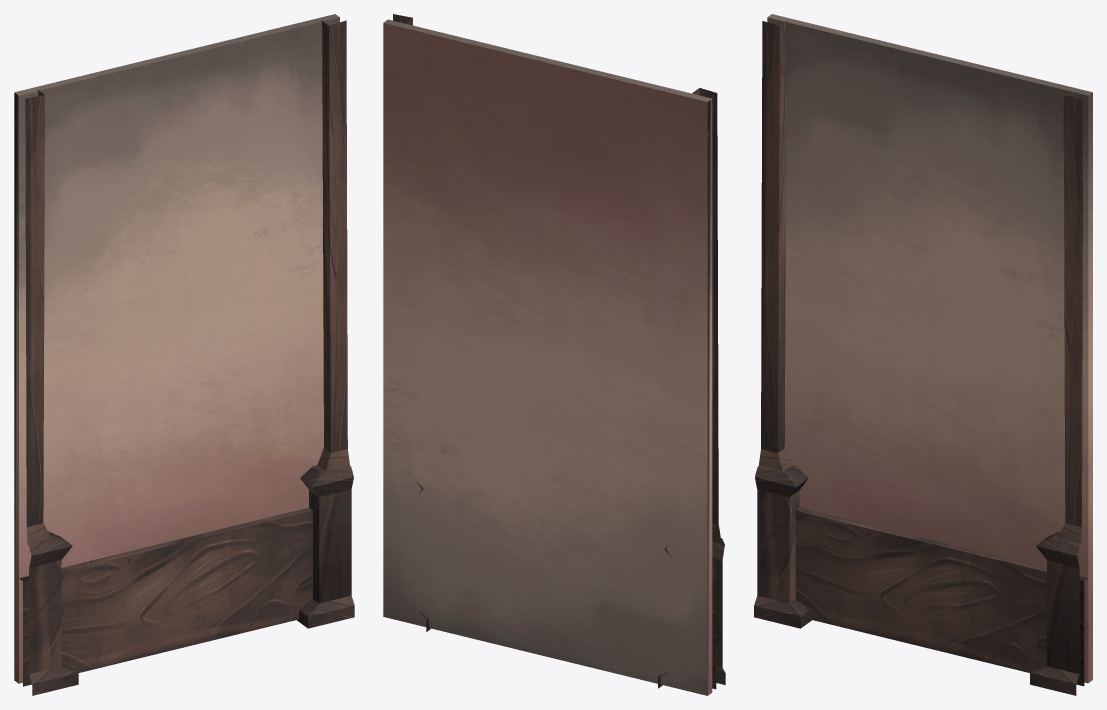
The model's file is Wall_Bot_Straight_LOD1.fbx.
The picture shows the model from 3 angles, left to right: view 1: azimuth 30°, elevation 25°; view 2: azimuth 150°, elevation 25°; view 3: azimuth 330°, elevation 25°; orthographic projection.
Parts seen in each view (by area): view 1: Straight_Wall_Bot_LOD1; view 2: Straight_Wall_Bot_LOD1; view 3: Straight_Wall_Bot_LOD1.
Part boxes in pixels (left/top/right/bottom): Straight_Wall_Bot_LOD1: left=14, top=14, right=354, bottom=695; Straight_Wall_Bot_LOD1: left=383, top=14, right=725, bottom=695; Straight_Wall_Bot_LOD1: left=754, top=14, right=1092, bottom=695.
Size of the model in its own units: 0.0241 by 0.0422 by 0.00265.
